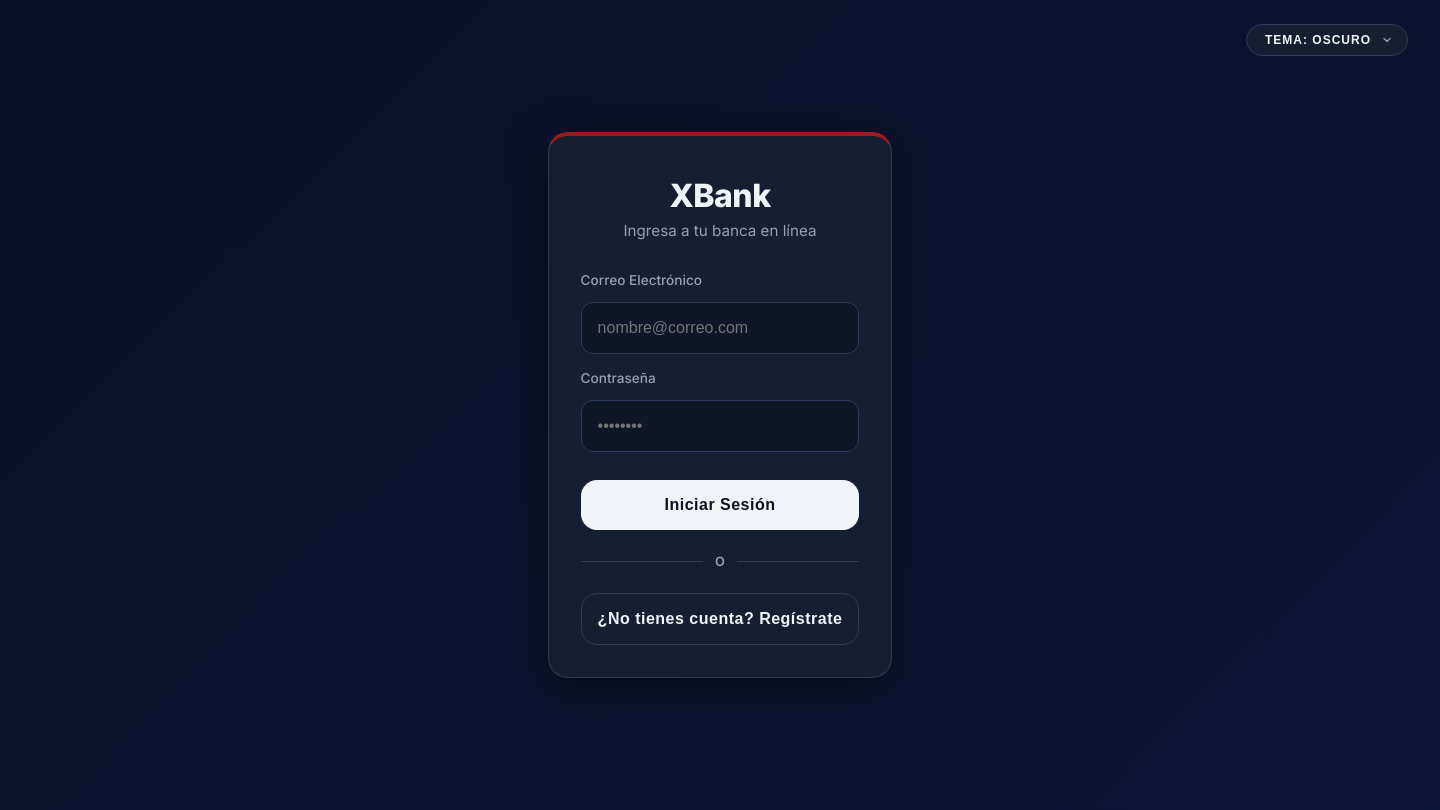
it: Componente Login › muestra el mensaje de error proveniente del servicio si la autenticación falla
Type "mal@correo.com" into the field with placeholder "nombre@correo.com".
click(720, 328); type("mal@correo.com")  # box x1=581 y1=302 x2=859 y2=354
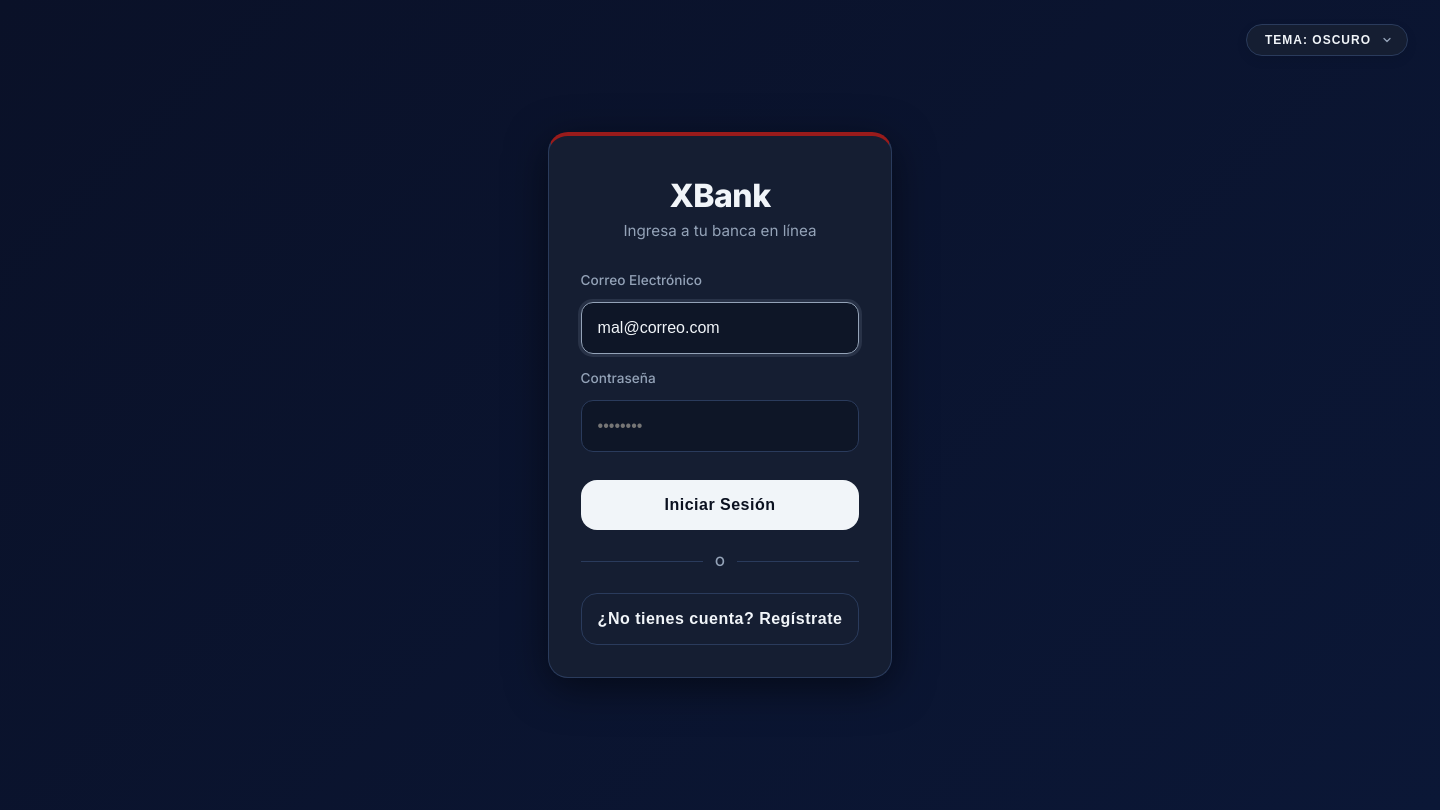
Type "clavemala" into the password field with placeholder "••••••••".
click(720, 426); type("clavemala")  # box x1=581 y1=400 x2=859 y2=452
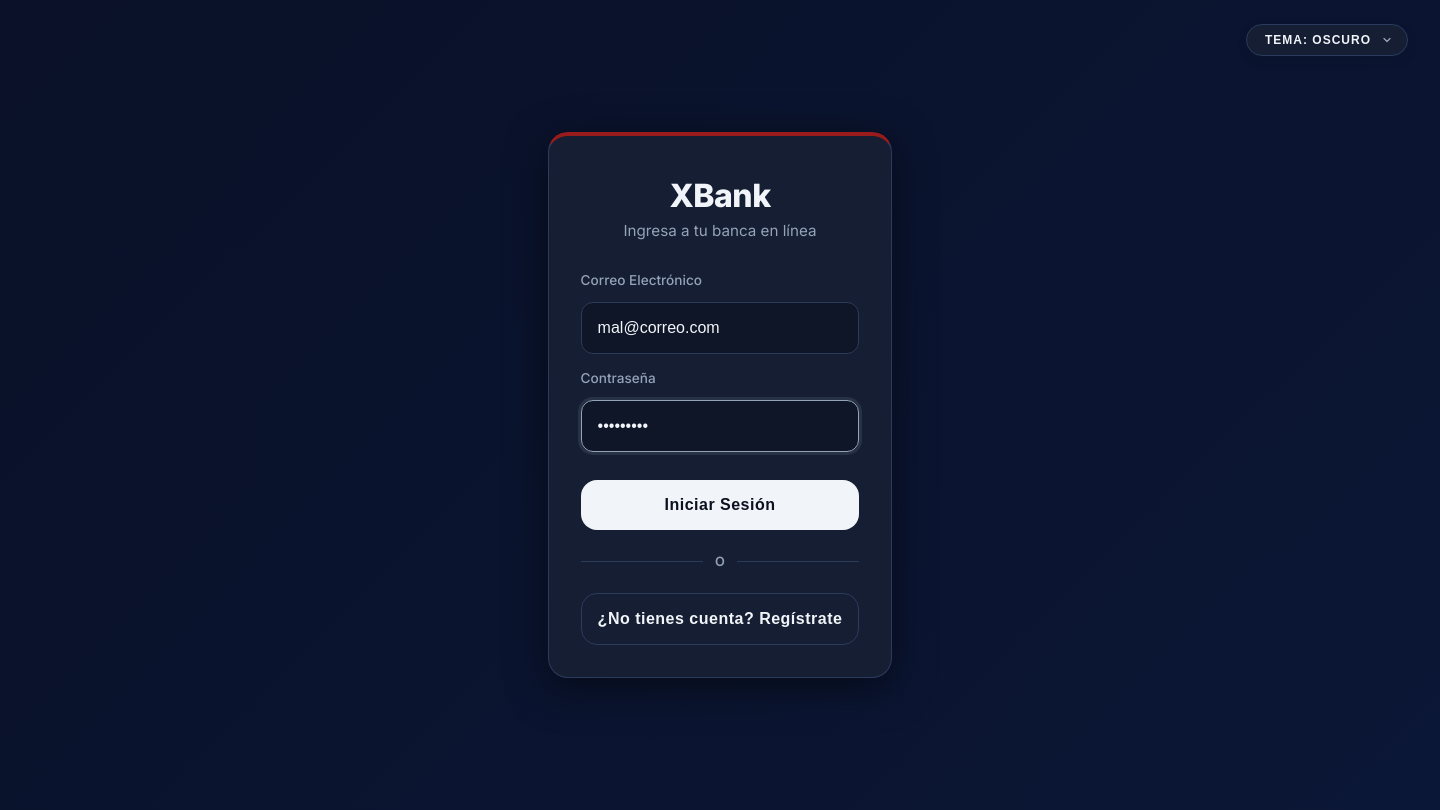
Click the button "Iniciar Sesión".
click(720, 505)  # box x1=581 y1=480 x2=859 y2=530
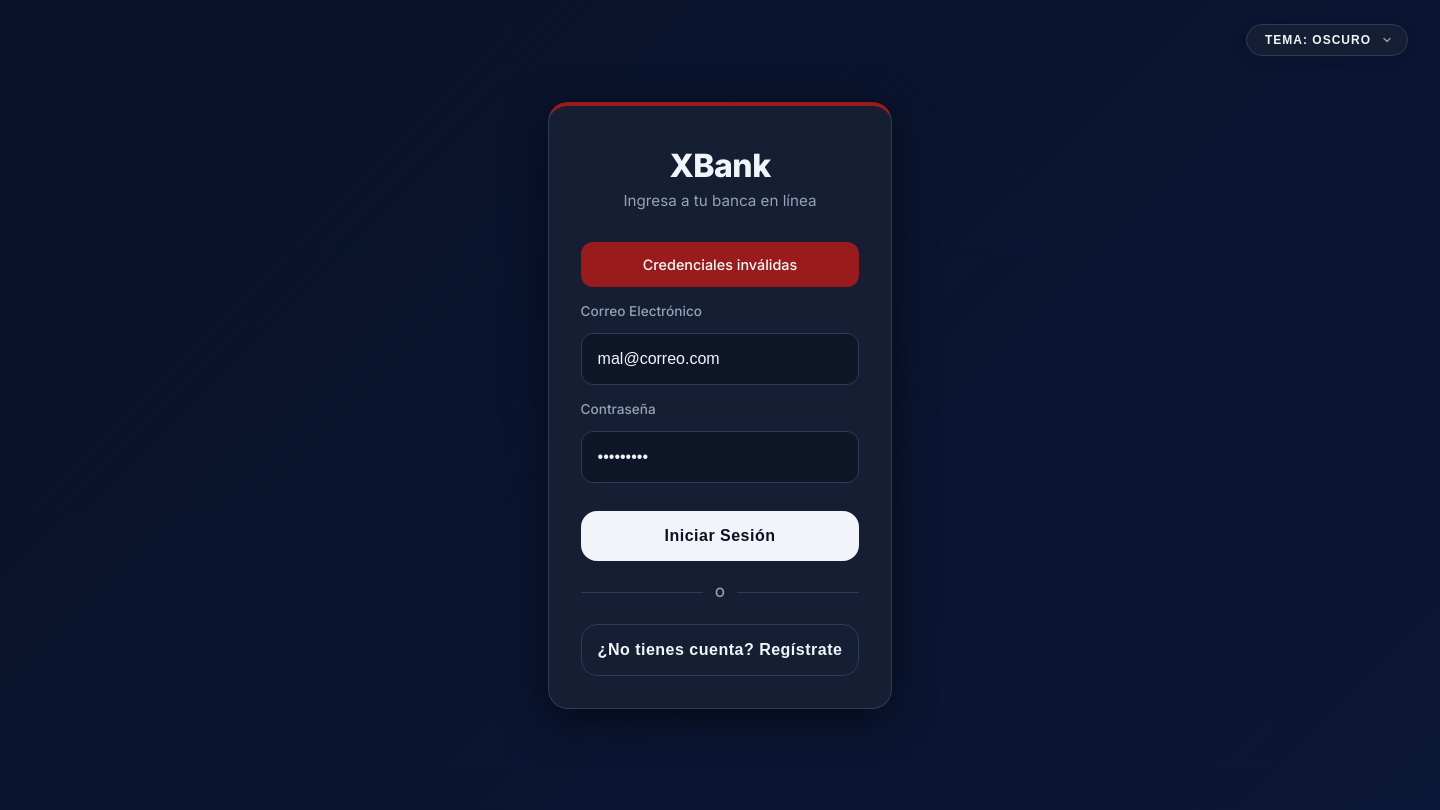
Expected: the text "Credenciales inválidas" is shown, x1=581 y1=242 x2=859 y2=286
